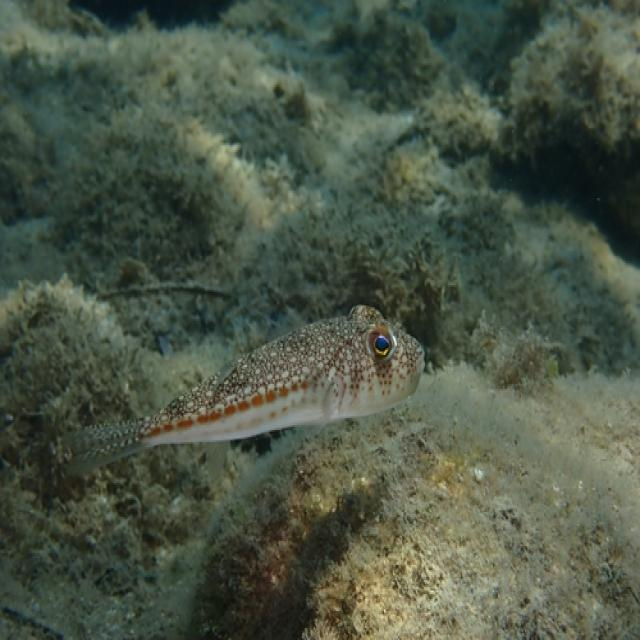Balik: (67, 306, 423, 472)
